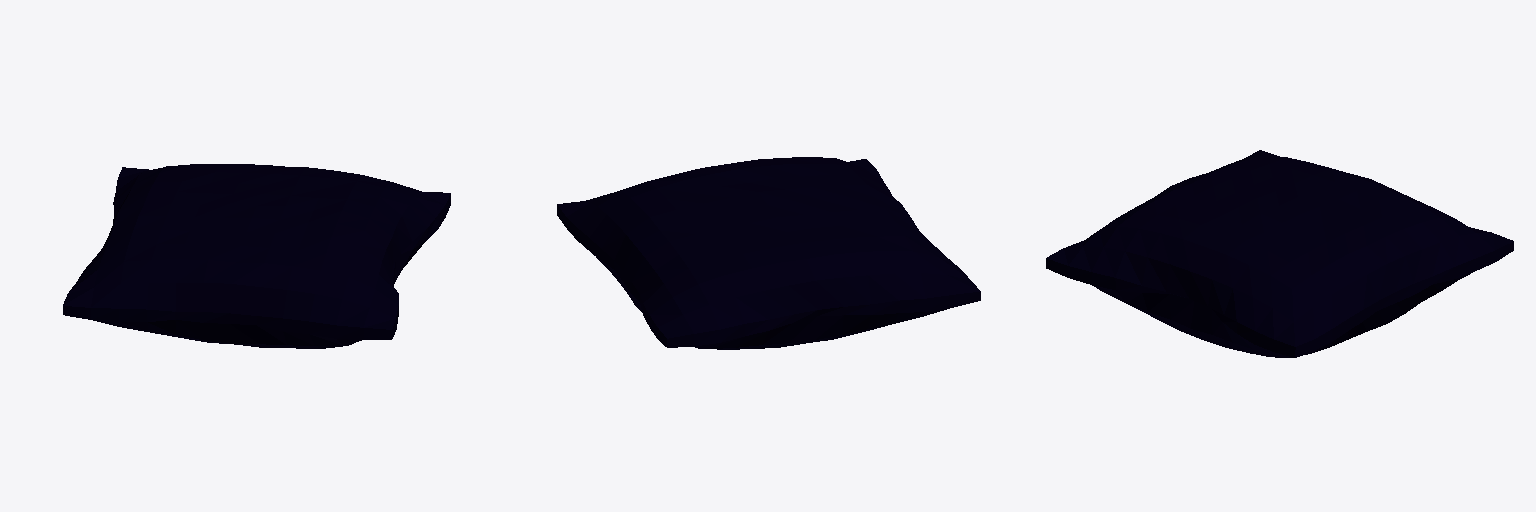
Rendered from Pillow2.obj.
The picture shows the model from 3 angles: view 1: azimuth 30°, elevation 25°; view 2: azimuth 150°, elevation 25°; view 3: azimuth 270°, elevation 25°; orthographic projection.
Parts seen in each view (by area): view 1: Plane; view 2: Plane; view 3: Plane.
Part boxes in pixels (bbox=[...]): Plane: bbox=[63, 164, 450, 348]; Plane: bbox=[557, 157, 980, 349]; Plane: bbox=[1046, 150, 1513, 357].
Size of the model in its own units: 2.15 by 0.5287 by 2.15.